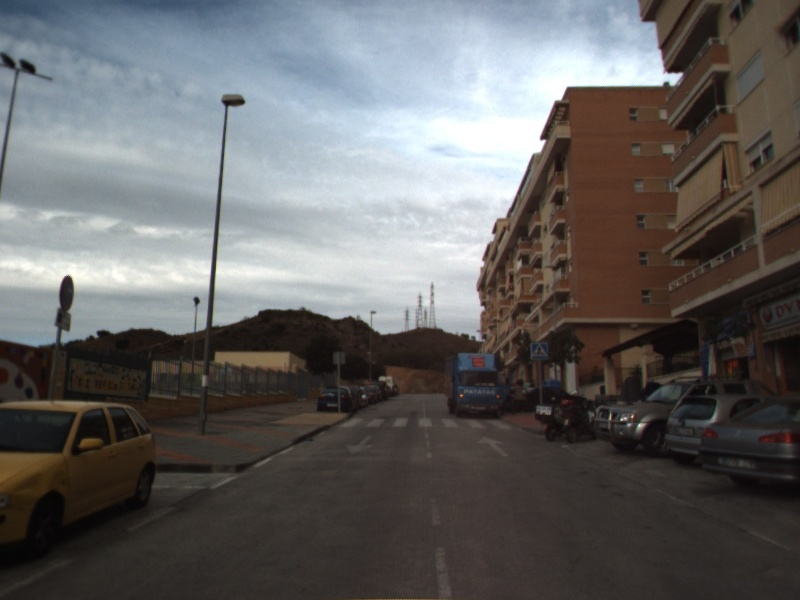STRAIGHT: (476, 434, 511, 458)
